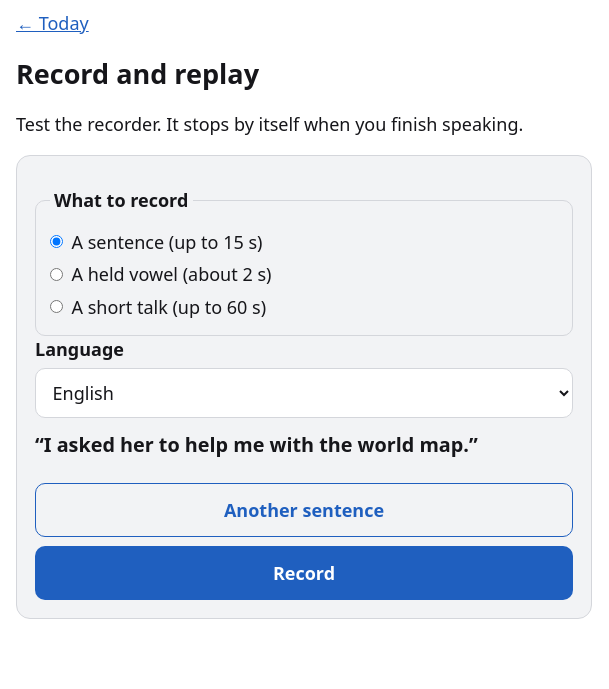
Test: record screen › Recorder_ManualStop_ShowsResult
Click the button "Record" at x=304, y=573, box [35, 546, 573, 600]
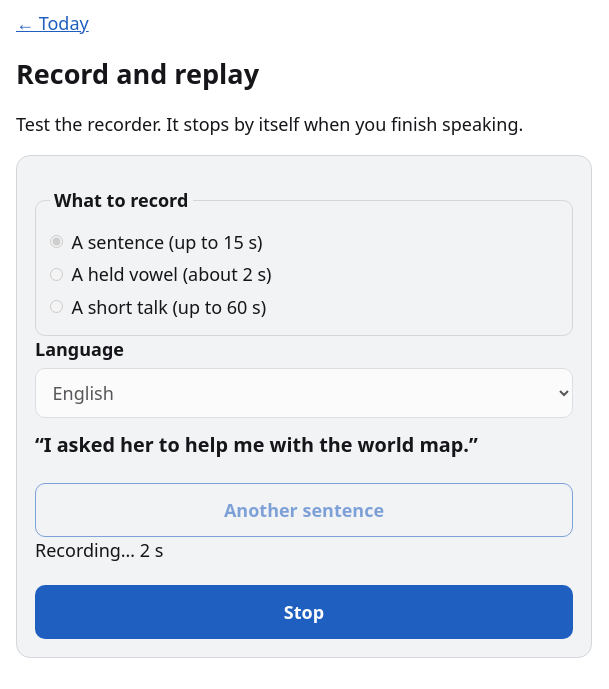
Click the button "Stop" at x=304, y=612, box [35, 585, 573, 639]
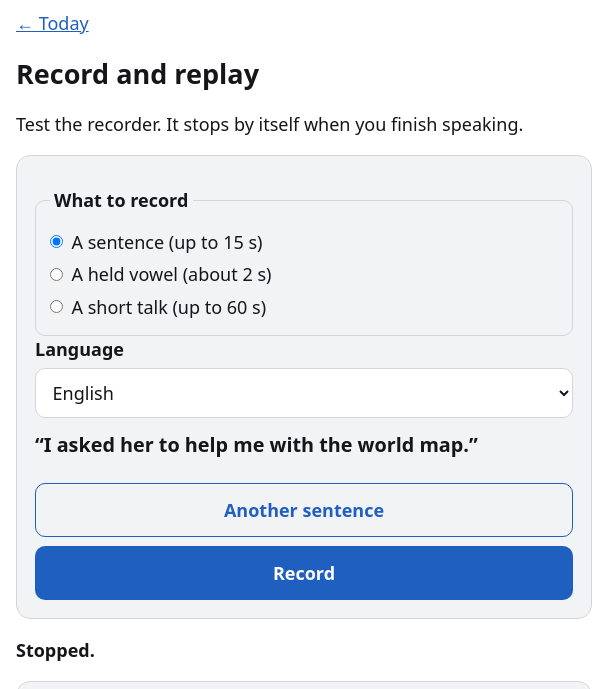
Expected: the text "Stopped." is shown, [16, 638, 95, 662]
